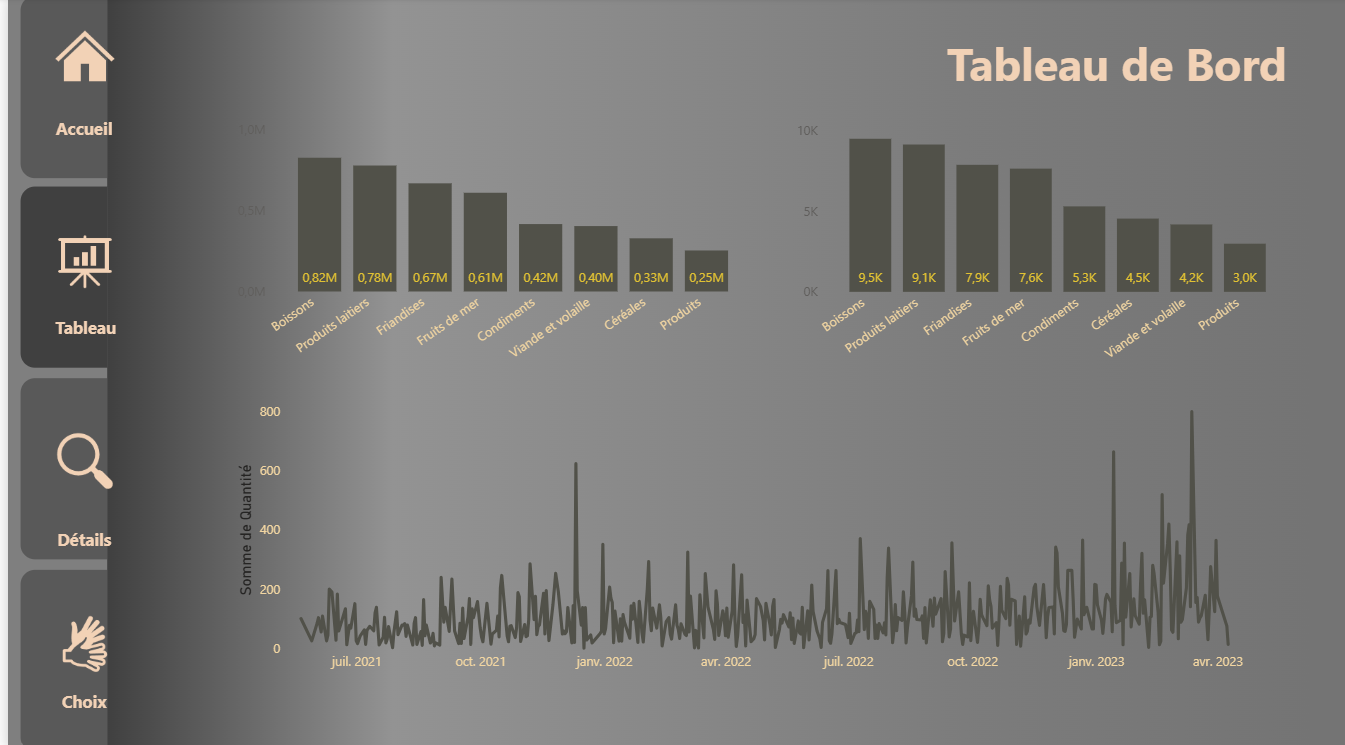

The dashboard page shown, as its layout file describes it:
{"tool":"powerbi","page":{"name":"Page 2","canvas":[1280,720],"ordinal":1},"visuals":[{"type":"textbox","box":[511.8,27.9,714.7,80.9],"z":0},{"type":"clusteredColumnChart","fields":{"Category":["commande client produit.Nom catégorie"],"Y":["Sum(commande client produit.Montant)"]},"box":[212.9,111.8,500.9,248.2],"z":1000},{"type":"clusteredColumnChart","fields":{"Category":["commande client produit.Nom catégorie"],"Y":["Sum(commande client produit.Quantité)"]},"box":[747.1,113.2,479.4,247.1],"z":2000},{"type":"lineChart","fields":{"Y":["Sum(commande client produit.Quantité)"],"Category":["commande client produit.Date livraison"]},"box":[212.9,381.4,980.4,271.1],"z":3000},{"type":"image","box":[36.4,214.5,75.1,75.1],"z":4000},{"type":"image","box":[36.4,18.4,75.1,75.1],"z":5000},{"type":"image","box":[36.4,580.6,75.1,75.1],"z":6000},{"type":"image","box":[36.4,406,75.1,75.1],"z":7000},{"type":"textbox","box":[23,108.8,99.6,42.9],"z":8000},{"type":"textbox","box":[24.5,298.7,99.6,42.9],"z":9000},{"type":"textbox","box":[23,500.9,99.6,42.9],"z":10000},{"type":"textbox","box":[23,655.7,99.6,42.9],"z":11000},{"type":"shape","box":[23,569.9,99.6,150.1],"z":11001},{"type":"shape","box":[24.5,372.3,99.6,183.8],"z":11002},{"type":"shape","box":[24.5,188.4,99.6,183.8],"z":11003},{"type":"shape","box":[23,0,99.6,183.8],"z":11004}]}

Visuals, with their boxes on the page's 1280x720 design canvas (x1, y1, x2, y2). These are canvas units, not pixel positions in the 1345x745 screenshot, which may show the page scaled, cropped or inside an application window:
textbox: x1=512, y1=28, x2=1226, y2=109
clusteredColumnChart - commande client produit.Nom catégorie x Sum(commande client produit.Montant): x1=213, y1=112, x2=714, y2=360
clusteredColumnChart - commande client produit.Nom catégorie x Sum(commande client produit.Quantité): x1=747, y1=113, x2=1226, y2=360
lineChart - Sum(commande client produit.Quantité) x commande client produit.Date livraison: x1=213, y1=381, x2=1193, y2=652
image: x1=36, y1=214, x2=112, y2=290
image: x1=36, y1=18, x2=112, y2=94
image: x1=36, y1=581, x2=112, y2=656
image: x1=36, y1=406, x2=112, y2=481
textbox: x1=23, y1=109, x2=123, y2=152
textbox: x1=24, y1=299, x2=124, y2=342
textbox: x1=23, y1=501, x2=123, y2=544
textbox: x1=23, y1=656, x2=123, y2=699
shape: x1=23, y1=570, x2=123, y2=720
shape: x1=24, y1=372, x2=124, y2=556
shape: x1=24, y1=188, x2=124, y2=372
shape: x1=23, y1=0, x2=123, y2=184
